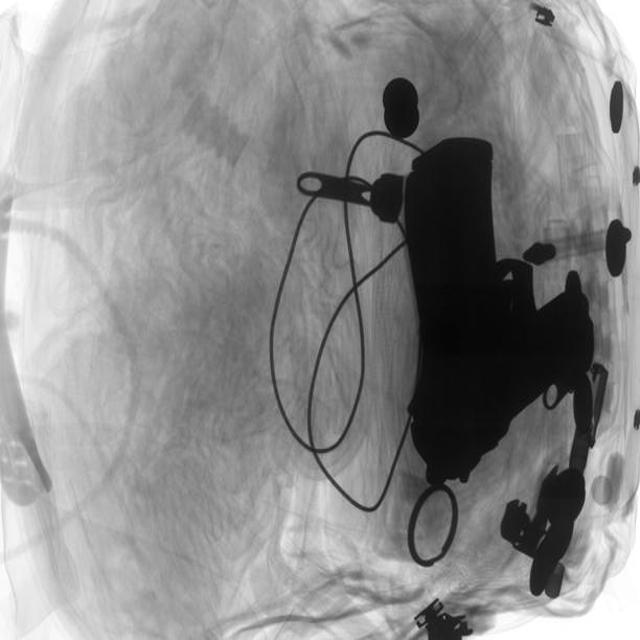gun: (396, 132, 607, 485)
